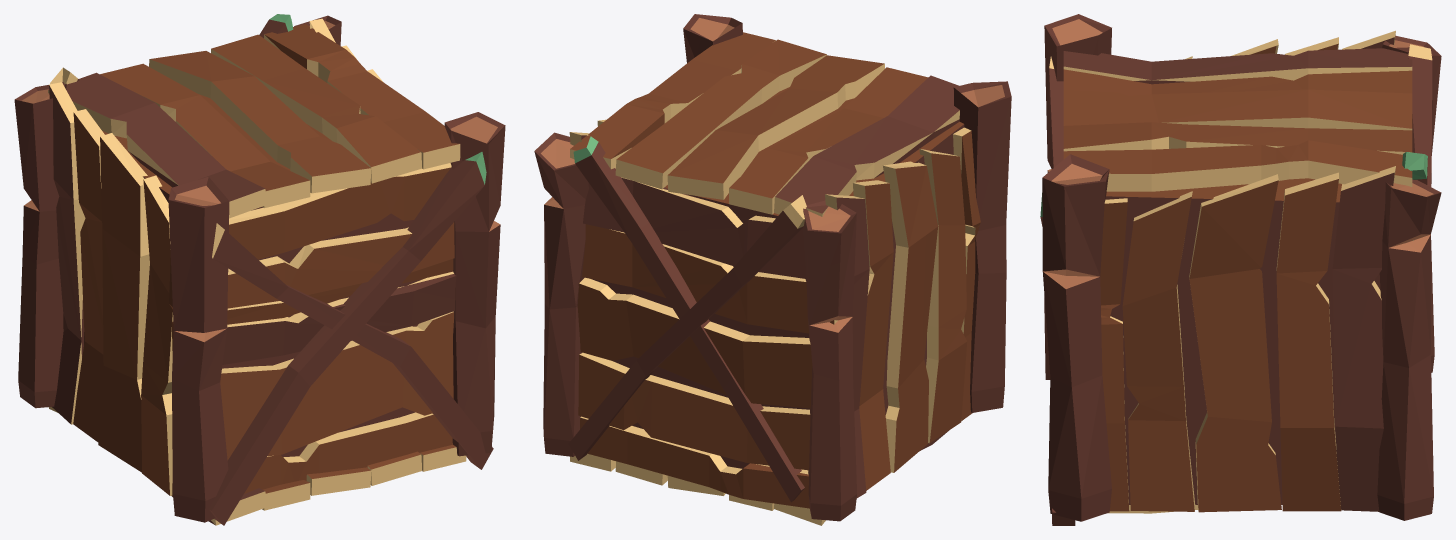
File: CajaGrande1.FBX
3 renders of one model, left to right at view 1: azimuth 30°, elevation 25°; view 2: azimuth 150°, elevation 25°; view 3: azimuth 270°, elevation 25°, orthographic. The views are drawn at different scales.
Visible parts, largest first — view 1: CajaTapa1; view 2: CajaTapa1; view 3: CajaTapa1.
Boxes of the visible parts, <box> form: CajaTapa1: <box>14,14,505,525</box>; CajaTapa1: <box>534,14,1011,525</box>; CajaTapa1: <box>1040,14,1441,525</box>.
Size of the model in its own units: 161 by 159 by 161.
1 material, 1 textured.
